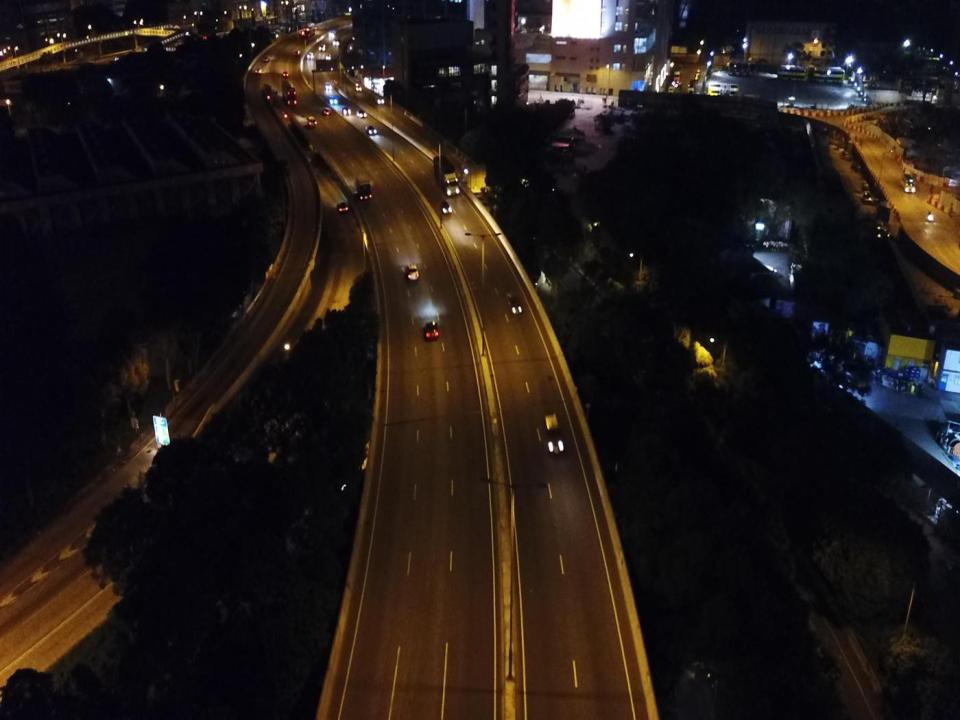bus: (433, 156, 459, 196), (707, 80, 738, 99), (812, 67, 845, 82), (280, 79, 297, 106), (354, 174, 372, 199), (777, 65, 806, 79), (304, 23, 315, 36), (728, 58, 735, 76), (749, 60, 756, 77), (742, 60, 749, 77), (736, 59, 742, 76)
car: (544, 412, 564, 456), (505, 292, 522, 316), (424, 320, 439, 342), (405, 264, 419, 281), (439, 200, 452, 216), (337, 203, 348, 213), (366, 126, 376, 135), (356, 110, 367, 118), (328, 97, 339, 105), (342, 107, 351, 116), (354, 83, 362, 92), (374, 97, 384, 104), (328, 30, 336, 38), (322, 108, 330, 115), (282, 70, 290, 77), (672, 81, 680, 88), (325, 83, 332, 90), (325, 53, 331, 60), (319, 44, 325, 51), (255, 68, 261, 73), (306, 53, 312, 58), (299, 30, 305, 35), (696, 69, 700, 76), (263, 57, 269, 61), (314, 27, 318, 30)
truck: (688, 79, 696, 93), (332, 34, 340, 46), (673, 70, 681, 82), (668, 86, 675, 94)
van: (901, 173, 915, 192), (307, 115, 317, 129), (295, 49, 300, 56)
